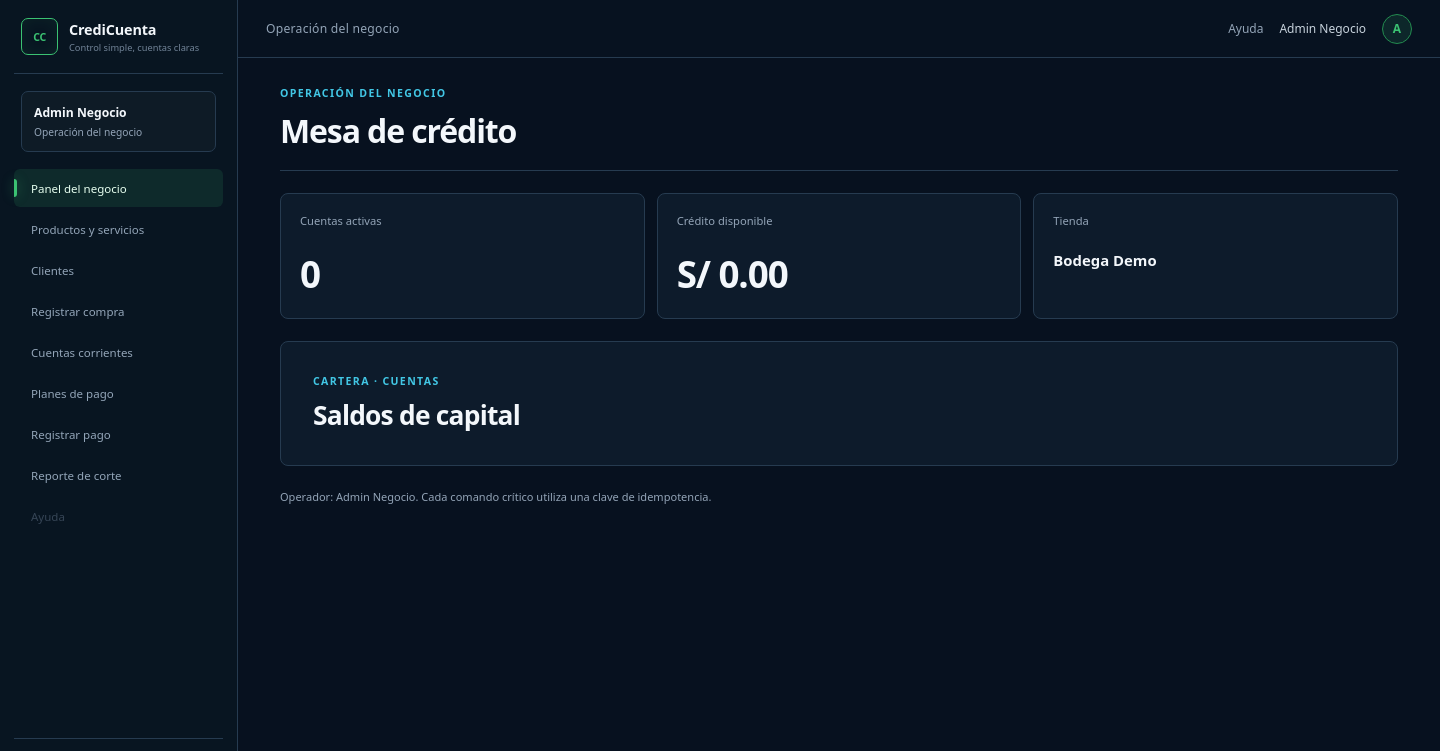
App por roles › creates a product with an optional image URL and adds it to the catalog
The width and height of the screenshot is (1440, 751).
Earlier steps of the test are not shown.
Step 1. Click the button "Productos y servicios" → (118, 229), box [14,210,223,248]
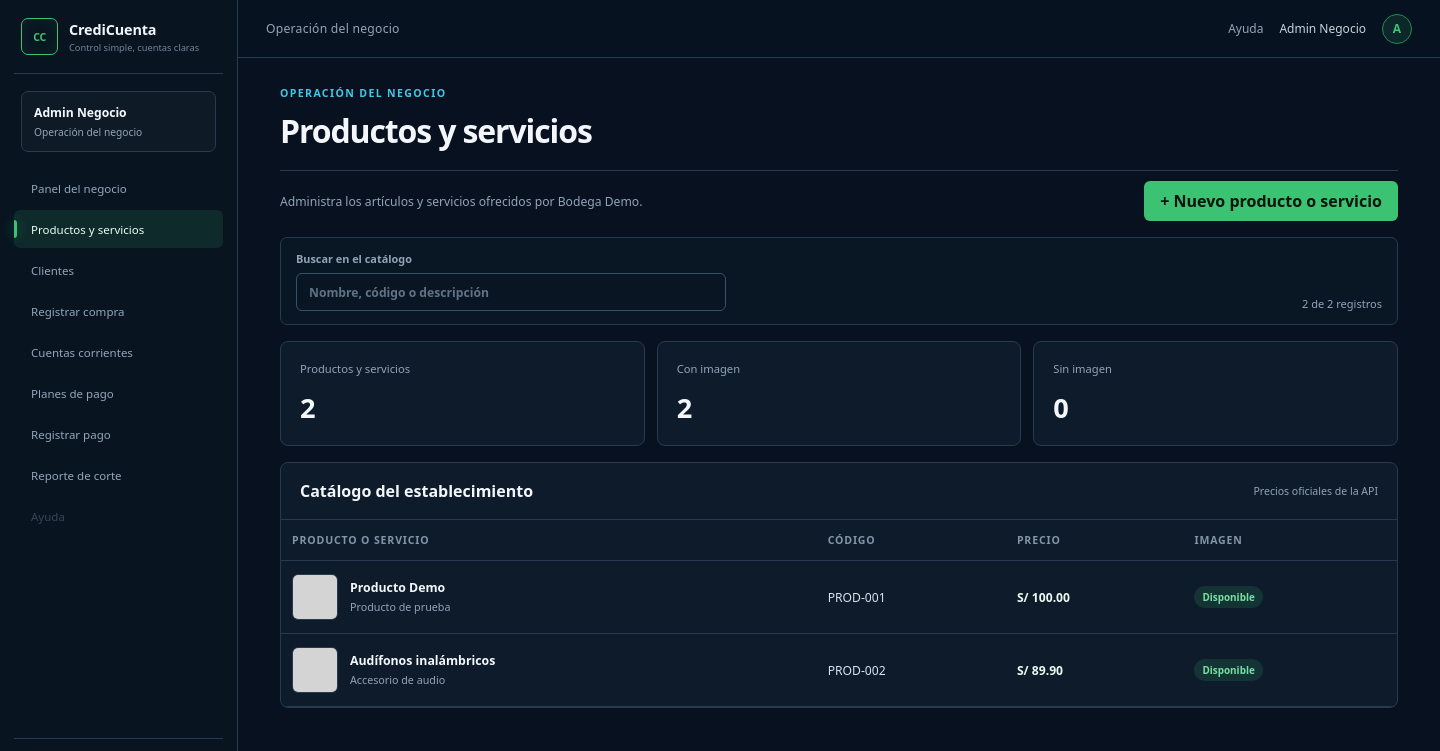
Step 2. Click the button "+ Nuevo producto o servicio" → (1271, 201), box [1144,181,1398,221]
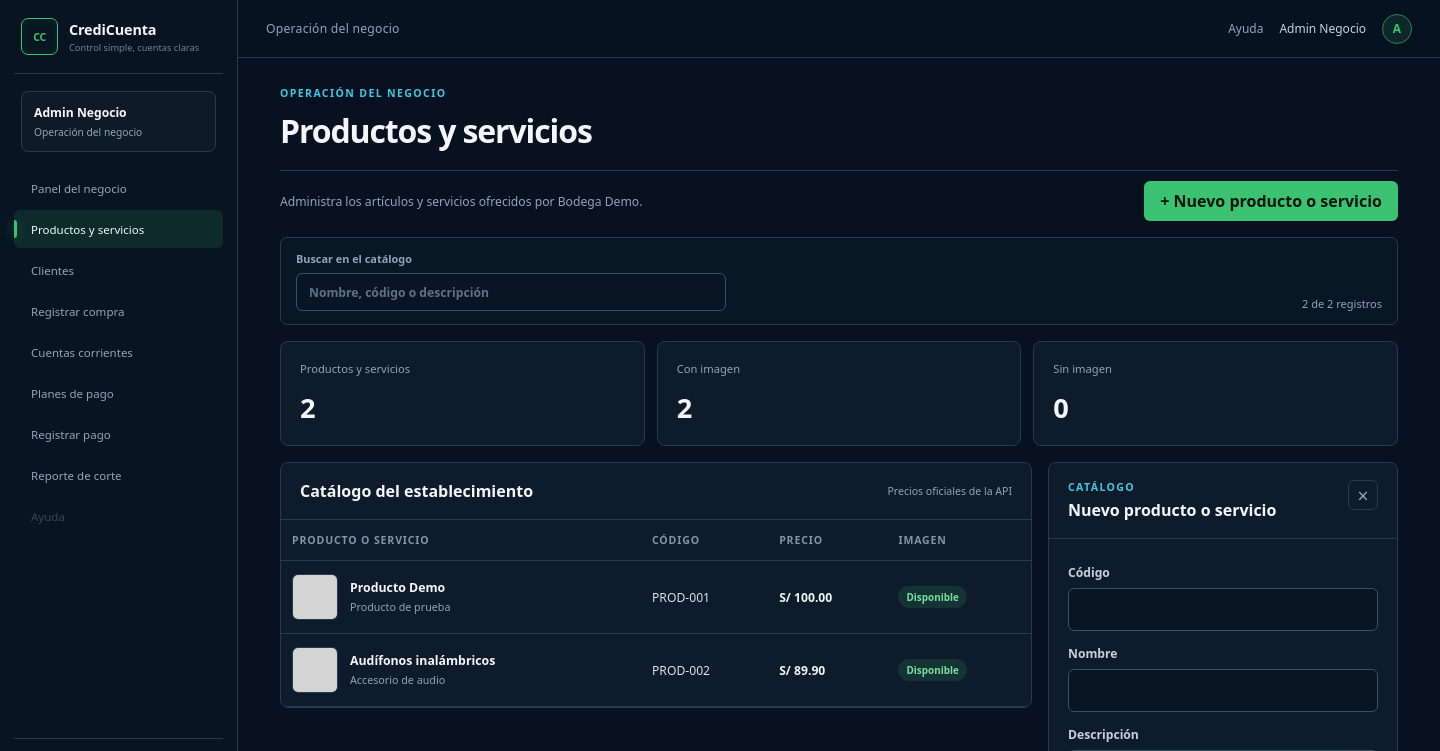
Step 3. Type "PROD-002" into the field labelled "Código" → (1223, 610), box [1068,588,1378,631]
Step 4. Type "Cafetera compacta" into the field labelled "Nombre" → (1223, 690), box [1068,669,1378,712]
(page scrolled)
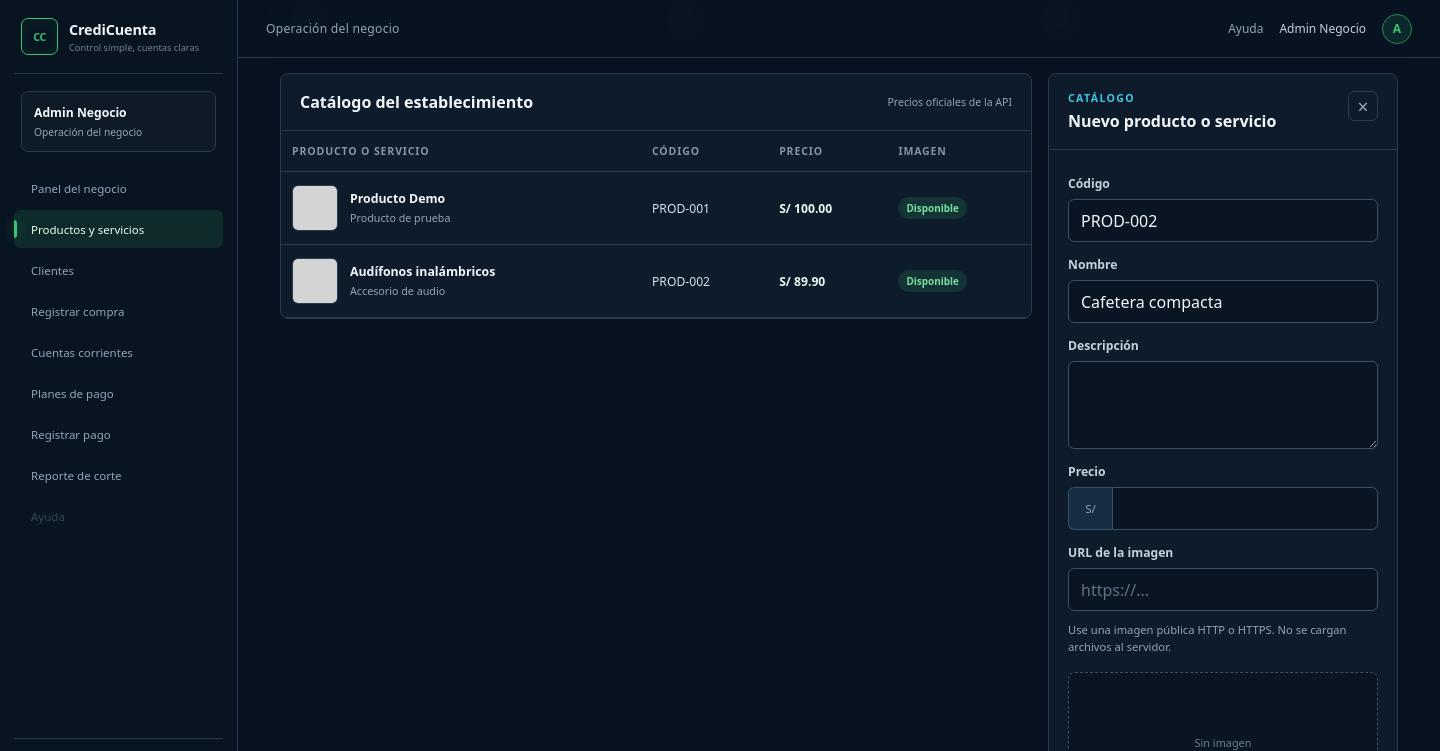
Step 5. Type "Cafetera para el hogar" into the text box labelled "Descripción" → (1223, 405), box [1068,361,1378,449]
Step 6. Type "189.90" into the field labelled "Precio" → (1245, 508), box [1112,487,1378,530]
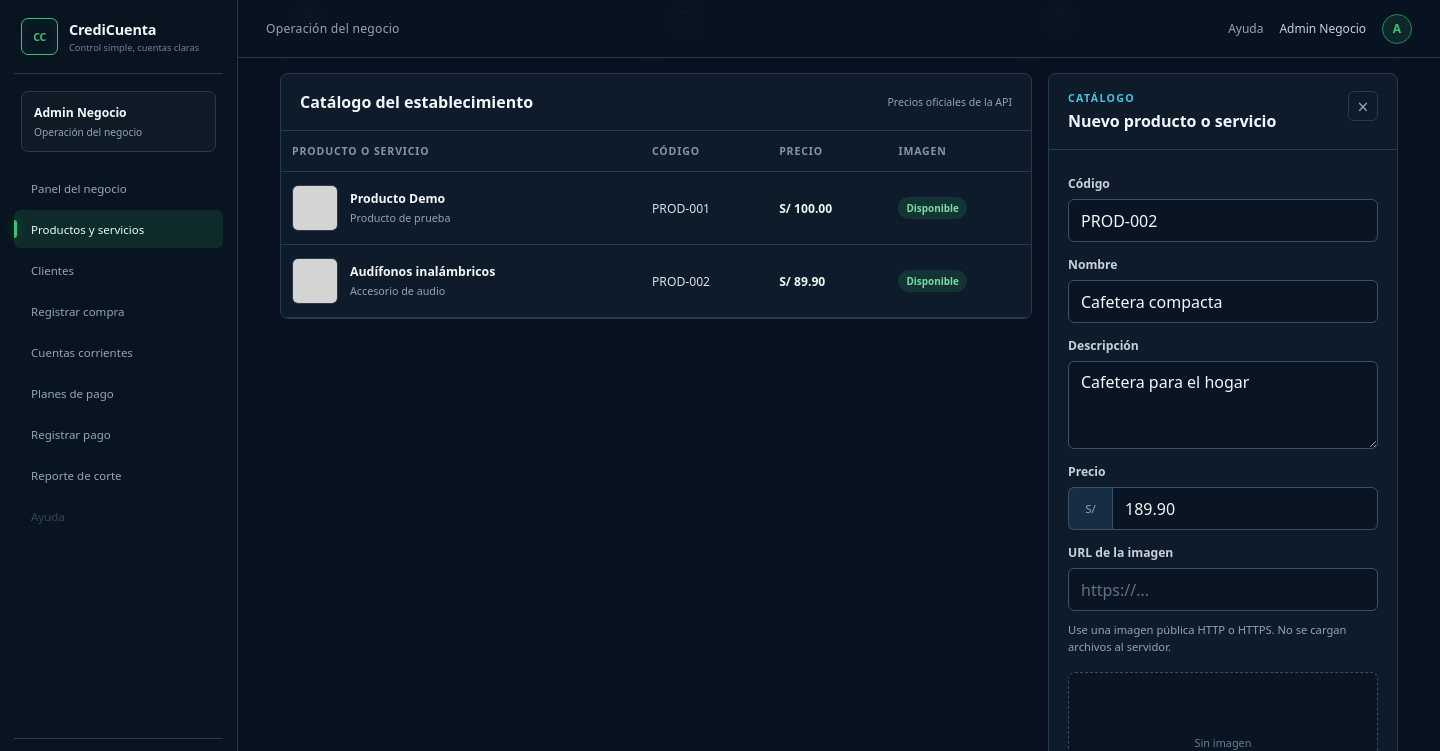
Step 7. Type "https://images.example.com/cafetera.jpg" into the field labelled "URL de la imagen" → (1223, 590), box [1068,568,1378,611]
(page scrolled)
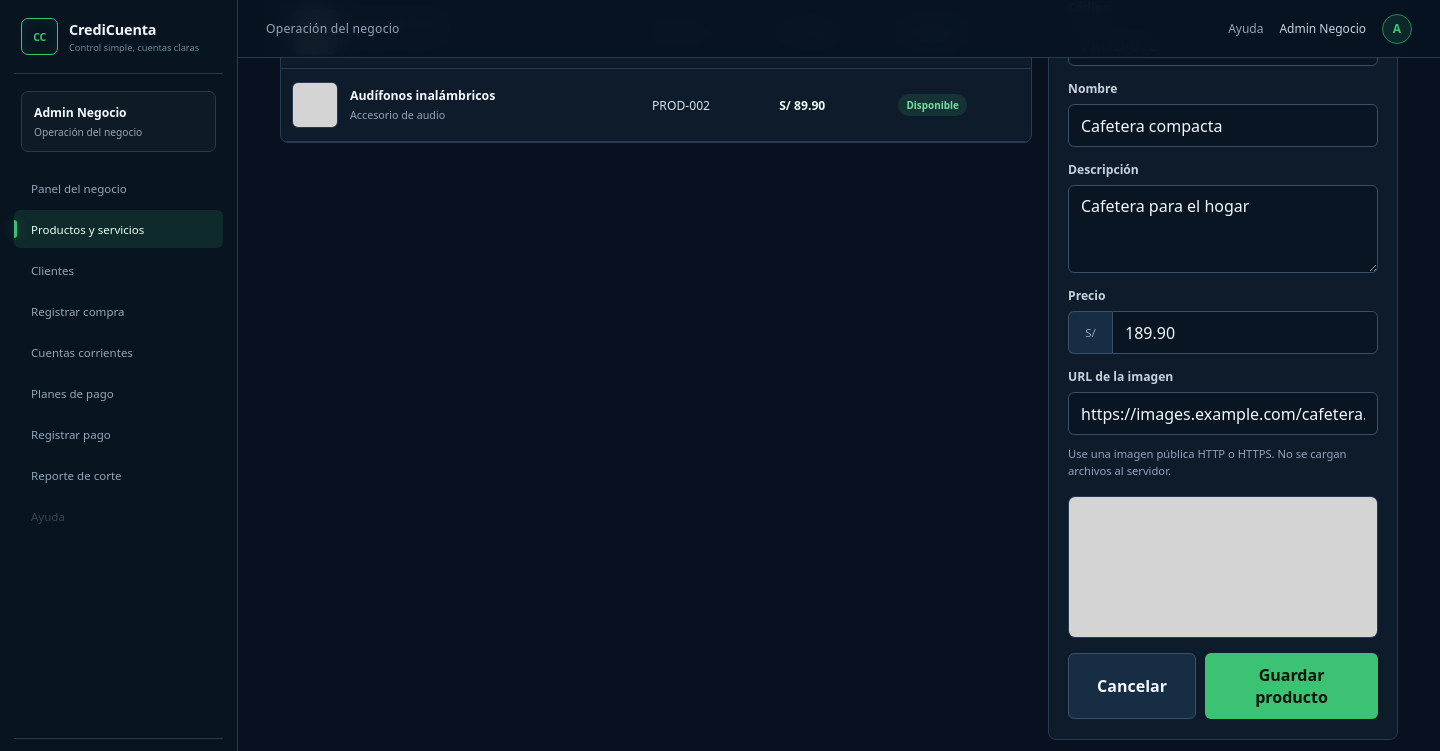
Step 8. Click the button "Guardar producto" → (1292, 686), box [1205,653,1378,719]
(page scrolled)
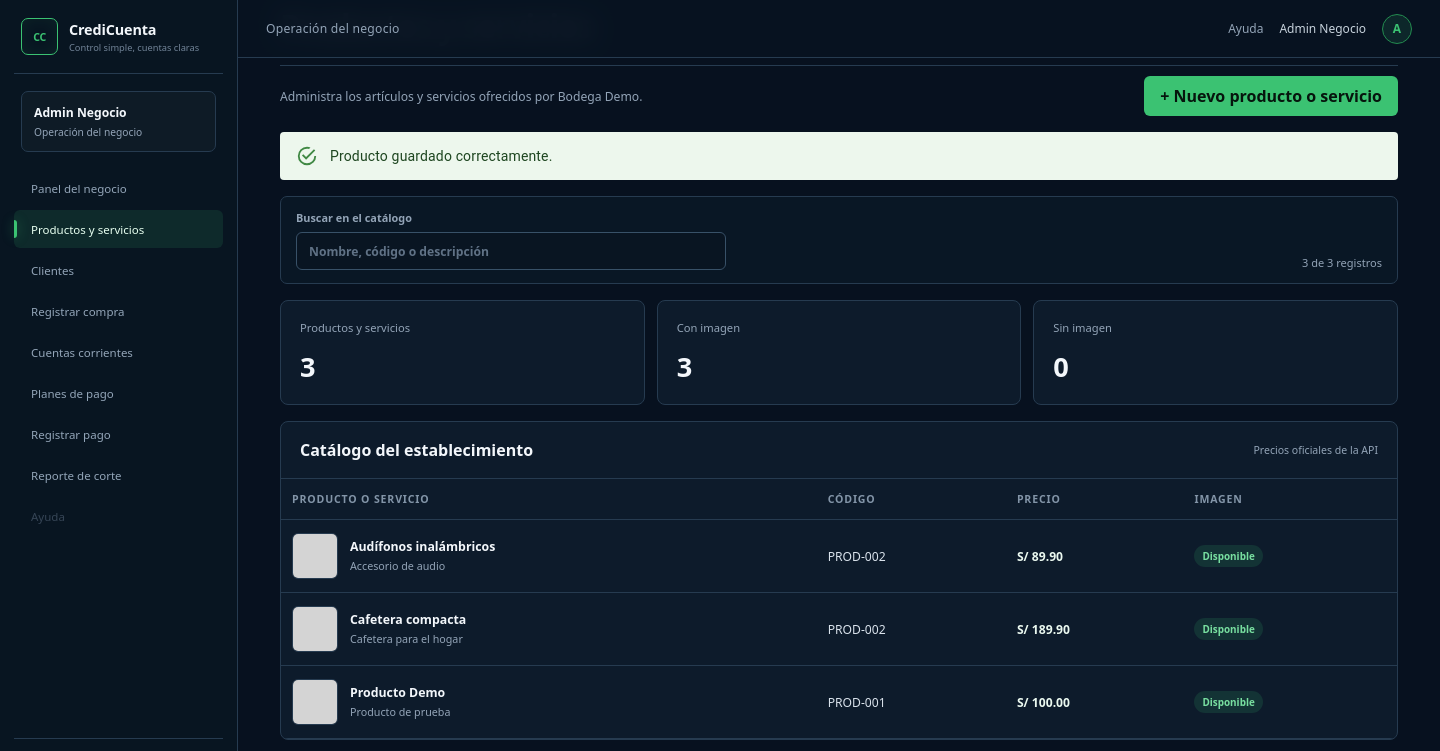
Now the text "Producto guardado correctamente." is shown, box [330,148,552,164]
